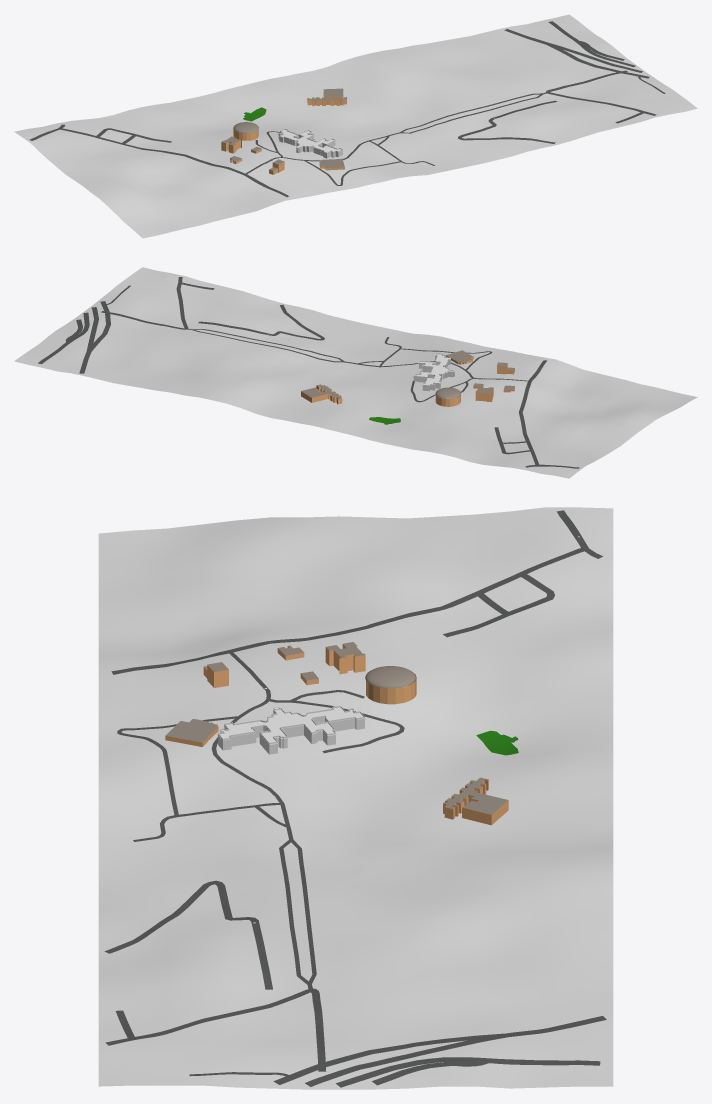
Rendered from campus.glb.
The picture shows the model from 3 angles, top to bottom: view 1: azimuth 30°, elevation 25°; view 2: azimuth 150°, elevation 25°; view 3: azimuth 270°, elevation 25°; orthographic projection. The views are drawn at different scales.
Visible parts, largest first — view 1: Terrain, map_26.osm_buildings, map_26.osm_roads_residential, map_26.osm_roads_service, map_26.osm_roads_trunk, Wall, Slab.001, map_26.osm_roads_unclassified; view 2: Terrain, map_26.osm_buildings, map_26.osm_roads_service, map_26.osm_roads_residential, map_26.osm_roads_trunk, Wall, Slab.001, map_26.osm_roads_unclassified; view 3: Terrain, map_26.osm_buildings, map_26.osm_roads_residential, map_26.osm_roads_service, map_26.osm_roads_trunk, Wall, Slab.001, map_26.osm_roads_unclassified.
Boxes of the visible parts, x1,y1,x2,y2 form: Terrain: (14, 14, 697, 238); map_26.osm_buildings: (221, 88, 346, 174); map_26.osm_roads_residential: (59, 100, 644, 196); map_26.osm_roads_service: (244, 75, 665, 185); map_26.osm_roads_trunk: (504, 21, 649, 78); Wall: (278, 129, 342, 158); Slab.001: (279, 129, 342, 153); map_26.osm_roads_unclassified: (546, 70, 656, 115); Terrain: (14, 267, 697, 478); map_26.osm_buildings: (301, 350, 514, 406); map_26.osm_roads_service: (104, 285, 529, 402); map_26.osm_roads_residential: (179, 282, 546, 465); map_26.osm_roads_trunk: (38, 301, 110, 373); Wall: (413, 353, 454, 390); Slab.001: (413, 354, 455, 386); map_26.osm_roads_unclassified: (101, 277, 188, 329); Terrain: (98, 507, 613, 1089); map_26.osm_buildings: (165, 642, 508, 825); map_26.osm_roads_residential: (104, 547, 585, 1039); map_26.osm_roads_service: (117, 651, 404, 1077); map_26.osm_roads_trunk: (273, 1016, 606, 1087); Wall: (218, 705, 364, 753); Slab.001: (218, 707, 365, 745); map_26.osm_roads_unclassified: (105, 988, 326, 1071).
Bounding box in the file's own units: 1155 × 48.94 × 464.
